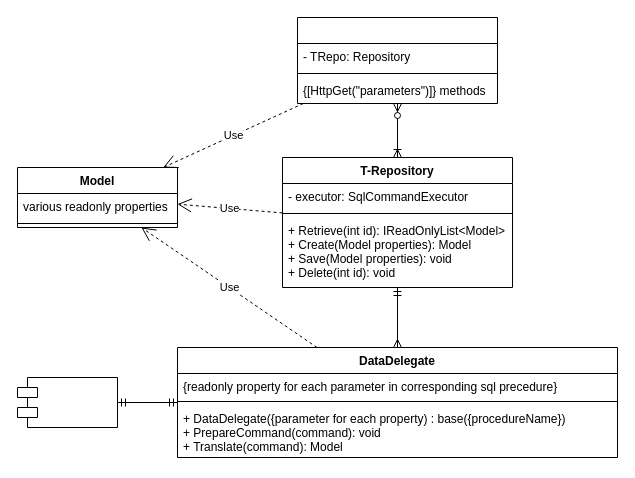
This 635x478 diagram has some shape labels left out. The shapes that lost their labels are listed below. From the top down, each one's box as (x1, y1, x2, y2) in pixels, then its label:
(296, 16, 498, 104): Controller
(16, 376, 118, 428): SQL Procedure
